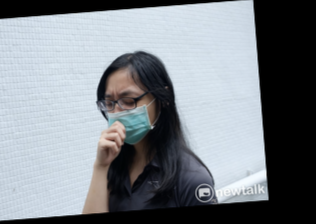with_mask: (103, 88, 155, 147)
